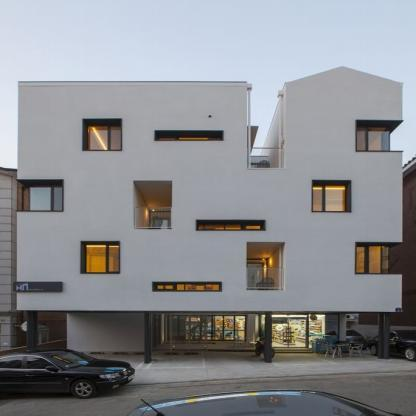Balcony: (246, 268, 285, 290), (133, 208, 172, 230), (247, 148, 285, 169)
Building Outline: (13, 66, 404, 354)
Door: (269, 320, 306, 349)
Facade: (12, 65, 405, 363)
Glass Wall: (165, 315, 246, 342), (308, 315, 338, 349)
Pillar: (27, 311, 38, 363), (378, 313, 390, 359), (144, 313, 151, 363), (265, 313, 271, 363)
Shop: (13, 282, 63, 292)
Window: (247, 242, 286, 291), (133, 181, 172, 230), (357, 246, 389, 274), (86, 245, 119, 272), (313, 186, 347, 212), (30, 186, 63, 211), (88, 126, 121, 151), (357, 127, 390, 151), (154, 131, 224, 142), (196, 220, 266, 231), (153, 282, 223, 291), (260, 315, 267, 348), (269, 315, 307, 317)
